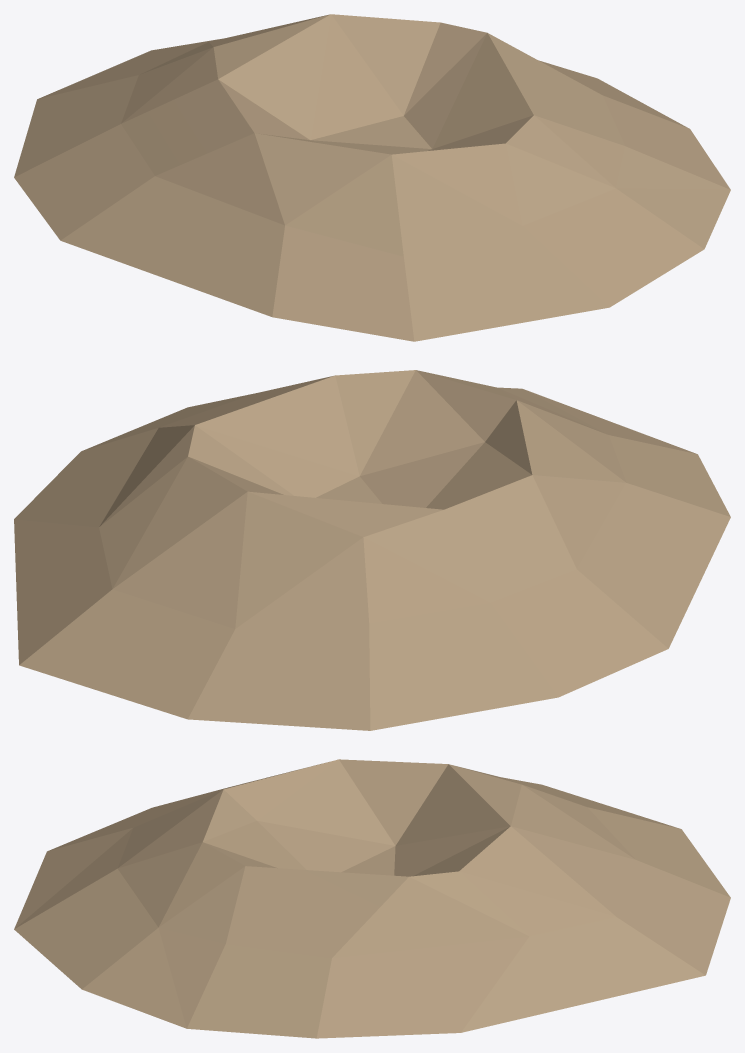
File: env_crater.gltf
3 renders of one model, top to bottom at view 1: azimuth 30°, elevation 25°; view 2: azimuth 150°, elevation 25°; view 3: azimuth 270°, elevation 25°, orthographic. The views are drawn at different scales.
Parts seen in each view (by area): view 1: env_crater; view 2: env_crater; view 3: env_crater.
Part boxes in pixels (x1,y1,x2,y2): env_crater: [14, 14, 730, 341]; env_crater: [14, 370, 730, 730]; env_crater: [14, 759, 730, 1038].
Bounding box in the file's own units: 2.27 × 0.4026 × 2.58.
1 material, 1 textured.
